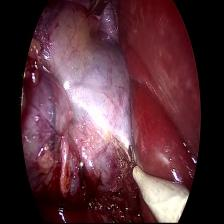Hook: (122, 140, 190, 224)
